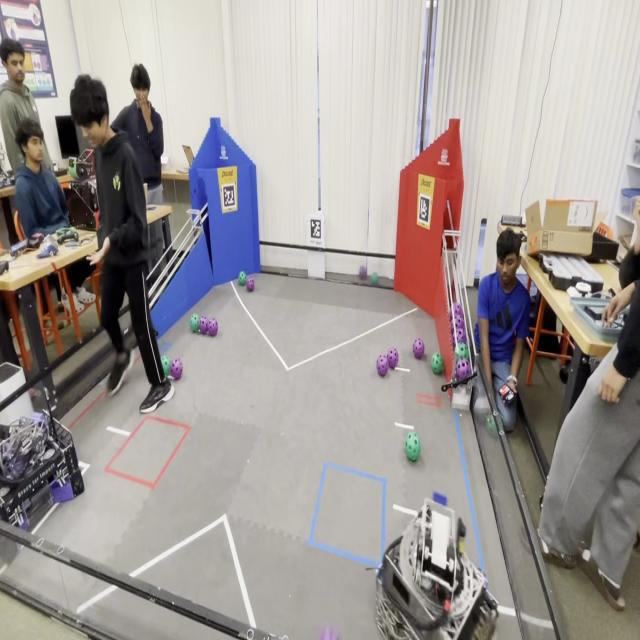artifact_green: (405, 431, 421, 461), (431, 352, 443, 375), (486, 415, 497, 436), (455, 343, 469, 359), (161, 356, 171, 375), (190, 314, 199, 333), (68, 163, 78, 180), (238, 271, 246, 286), (359, 265, 367, 279), (371, 272, 379, 285), (539, 494, 543, 511)
artifact_purple: (456, 359, 471, 380), (170, 359, 183, 381), (413, 339, 425, 359), (377, 355, 388, 376), (320, 627, 339, 639), (387, 348, 398, 368), (450, 303, 463, 318), (207, 319, 217, 336), (456, 328, 466, 343), (199, 316, 207, 334), (453, 315, 464, 328), (246, 277, 255, 292), (359, 265, 367, 279), (451, 318, 457, 335), (454, 309, 464, 319)
